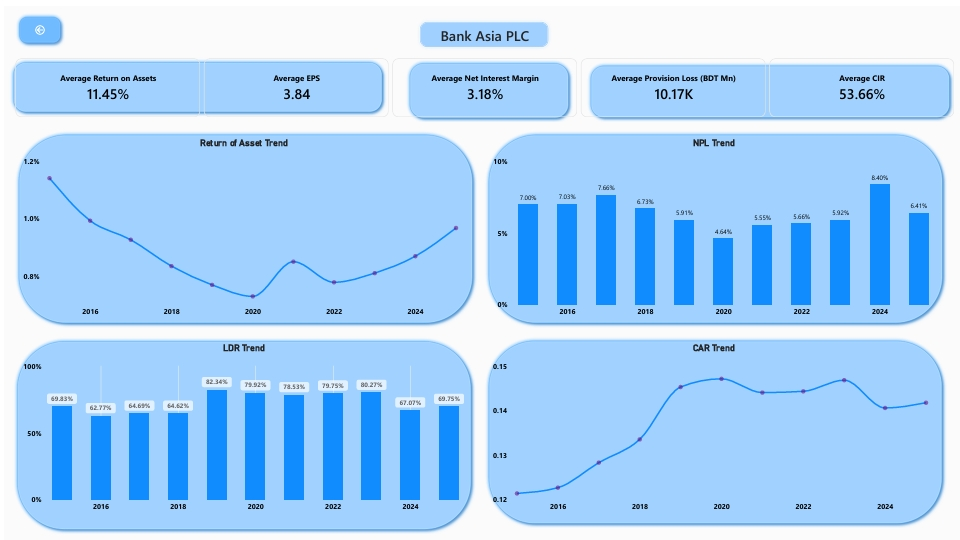

What the dashboard file says about the page in this screenshot:
{"tool":"powerbi","page":{"name":"Bank Profile & Financial Deep Dive","canvas":[1920,1080],"ordinal":6},"visuals":[{"type":"cardVisual","fields":{"Data":["Avg(Reported_Ratios_cleaned.ROE)","Avg(Reported_Ratios_cleaned.EPS)","Avg(Reported_Ratios_cleaned.Net_Interest_Margin)","Avg(Financials.Loan_Loss_Provision(BDT Mn))","Avg(Reported_Ratios_cleaned.CIR)"]},"box":[20,105,1877.5,117.5],"z":0},{"type":"lineChart","title":"Return of Asset Trend","fields":{"Category":["Reported_Ratios_cleaned.Year"],"Y":["Avg(Reported_Ratios_cleaned.ROA)"]},"box":[20,247.5,915,392.5],"z":1000},{"type":"columnChart","title":"NPL Trend","fields":{"Category":["Reported_Ratios_cleaned.Year"],"Y":["Avg(Reported_Ratios_cleaned.NPL_Ratio)"]},"box":[960,247.5,915,392.5],"z":2000},{"type":"lineChart","title":"CAR Trend","fields":{"Category":["Reported_Ratios_cleaned.Year"],"Y":["Avg(Reported_Ratios_cleaned.CAR)"]},"box":[960,657.5,915,372.5],"z":3000},{"type":"lineClusteredColumnComboChart","title":"LDR Trend","fields":{"Category":["Reported_Ratios_cleaned.Year"],"Y":["Avg(Reported_Ratios_cleaned.LDR)"]},"box":[20,657.5,915,372.5],"z":4000},{"type":"cardVisual","fields":{"Data":["Min(Bank_Master.Bank_Name)"]},"box":[820,20,277.5,70],"z":5000},{"type":"actionButton","box":[20.3,10.8,100,70.3],"z":6000}]}

Visuals, with their boxes in screenshot pixels (x1, y1, x2, y2), scaled from the page's 1920x1080 canvas onto the 960x540 screenshot:
cardVisual - Avg(Reported_Ratios_cleaned.ROE) x Avg(Reported_Ratios_cleaned.EPS): bbox=[10, 52, 949, 111]
"Return of Asset Trend" lineChart: bbox=[10, 124, 468, 320]
"NPL Trend" columnChart: bbox=[480, 124, 938, 320]
"CAR Trend" lineChart: bbox=[480, 329, 938, 515]
"LDR Trend" lineClusteredColumnComboChart: bbox=[10, 329, 468, 515]
cardVisual - Min(Bank_Master.Bank_Name): bbox=[410, 10, 549, 45]
actionButton: bbox=[10, 5, 60, 41]
